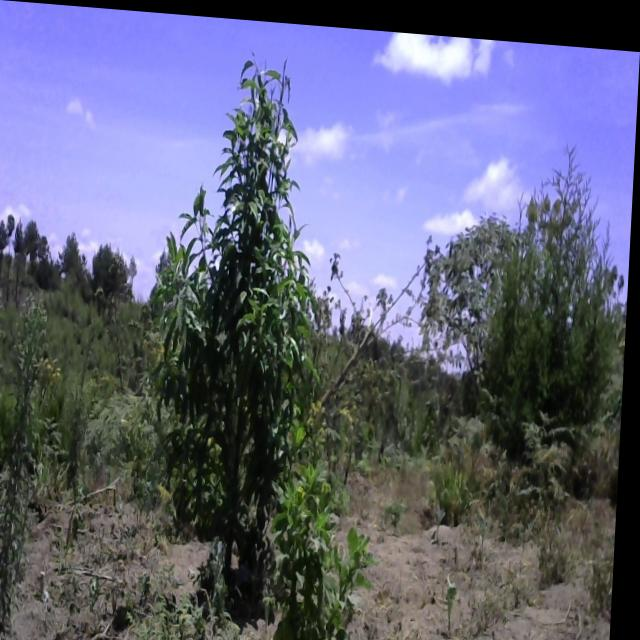Hass Avocado: (151, 40, 336, 562)
cedrus: (498, 129, 629, 438), (13, 217, 30, 290), (64, 230, 85, 277), (29, 218, 43, 287), (0, 216, 13, 280), (130, 251, 145, 287)
other: (271, 459, 383, 640), (428, 189, 513, 370)
